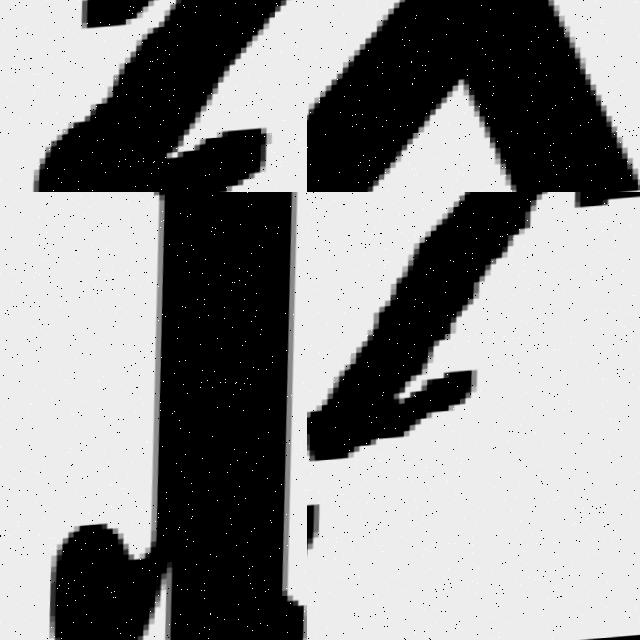I: (0, 0, 307, 192)
J: (307, 192, 640, 640)
R: (30, 192, 307, 640)
X: (307, 0, 640, 192)
